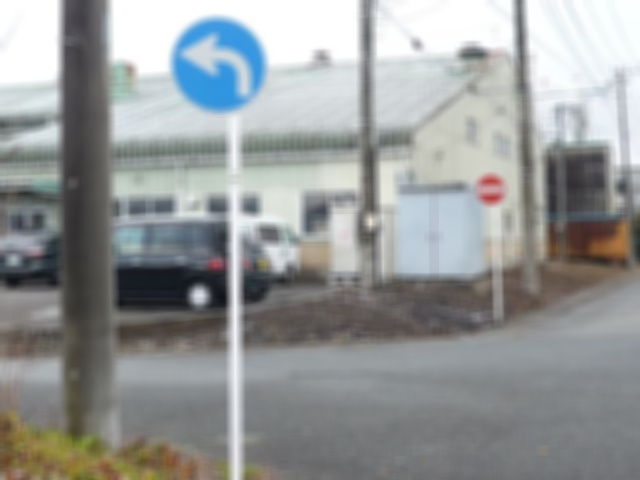Direction_sign: (167, 12, 286, 126)
